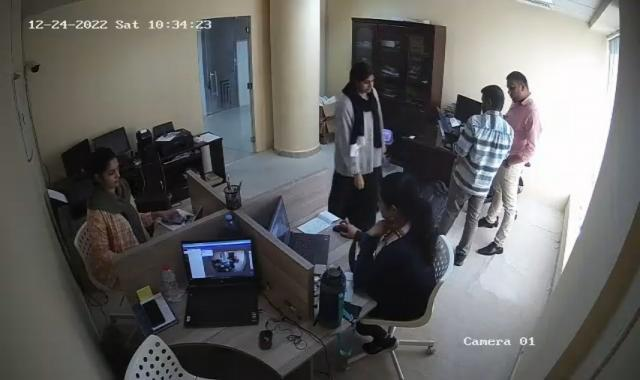no_hairnet: (377, 170, 417, 225), (90, 151, 124, 189), (480, 83, 505, 118), (351, 64, 376, 96), (507, 72, 529, 105)
